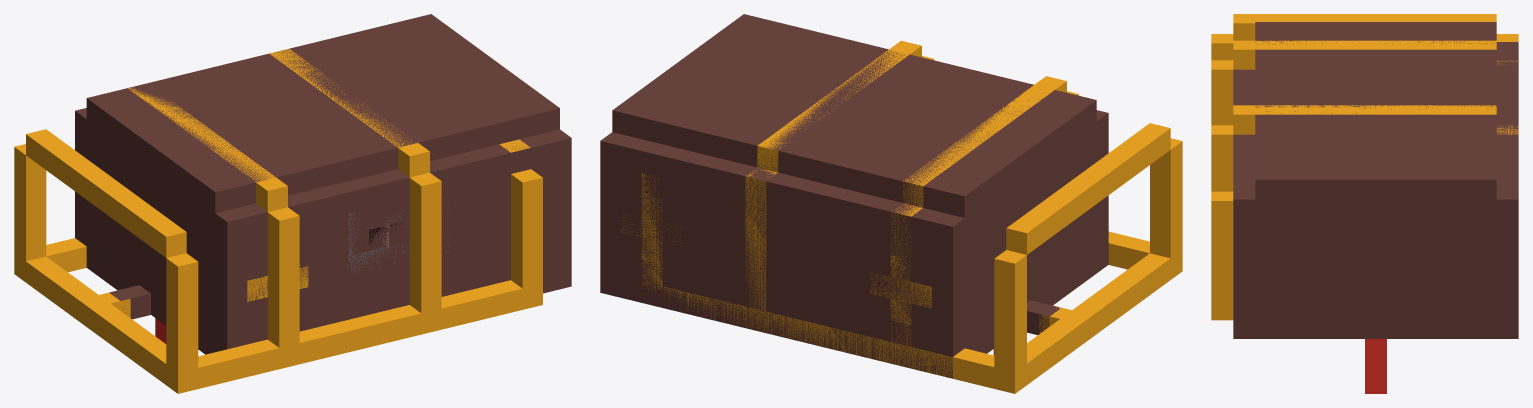
The model's file is treasurechest.glb.
3 renders of one model, left to right at view 1: azimuth 30°, elevation 25°; view 2: azimuth 150°, elevation 25°; view 3: azimuth 270°, elevation 25°, orthographic. The views are drawn at different scales.
Parts seen in each view (by area): view 1: top-wood, base, top-gold, base-gold, angles; view 2: top-wood, base, top-gold, base-gold, f-gold-1, angles; view 3: top-wood, base, top-gold, glasses, base-gold.
Boxes of the visible parts, x1,y1,x2,y2 form: top-wood: (75,14,571,349); base: (75,108,571,354); top-gold: (14,49,542,392); base-gold: (14,238,542,393); angles: (109,285,150,319); top-wood: (600,14,1107,355); base: (600,110,1108,378); top-gold: (641,40,1182,391); base-gold: (642,232,1182,393); f-gold-1: (621,195,931,324); angles: (1027,300,1059,335); top-wood: (1233,22,1518,318); base: (1233,42,1518,338); top-gold: (1211,14,1518,320); glasses: (1365,339,1386,393); base-gold: (1211,300,1233,320).
Bounding box in the file's own units: 20 × 11 × 14.
Materials: 10 (10 with a texture image).
